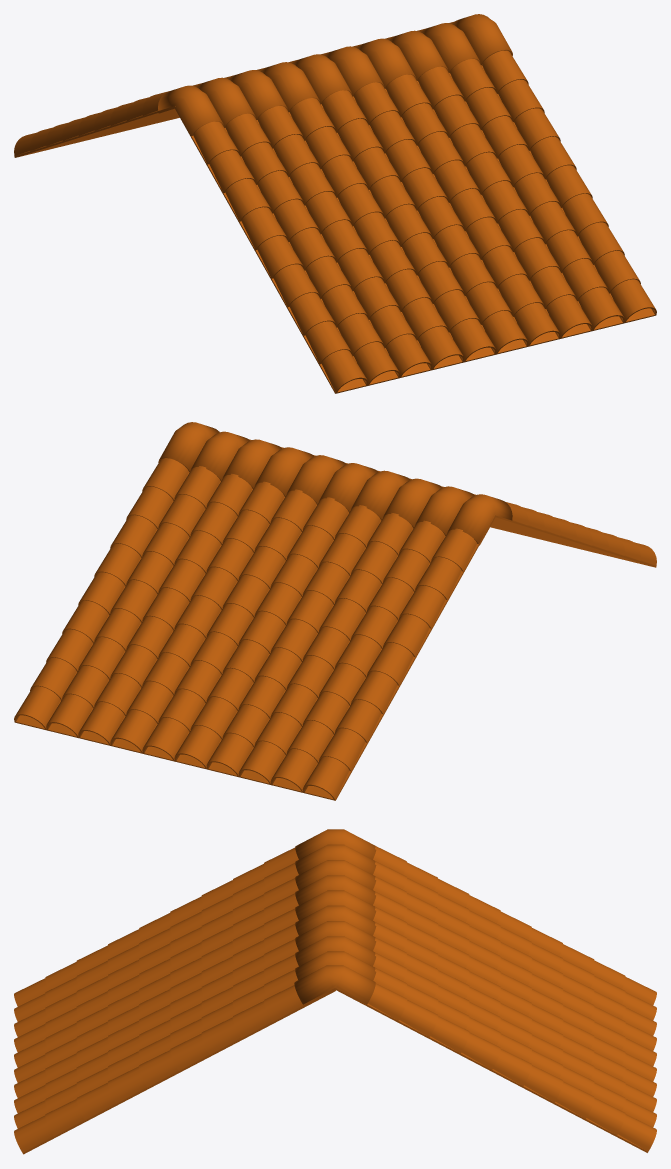
3 views of the same model, one above another, from view 1: azimuth 30°, elevation 25°; view 2: azimuth 150°, elevation 25°; view 3: azimuth 270°, elevation 25° (orthographic). The views are drawn at different scales.
Parts seen in each view (by area): view 1: Group_190, Group_181, Group_186, Group_185, Group_188, Group_184, Group_187, Group_182, Group_183, Group_189, Group_125, Group_089 (+88 smaller); view 2: Group_190, Group_181, Group_209, Group_187, Group_186, Group_182, Group_184, Group_188, Group_185, Group_189, Group_183, Group_243 (+88 smaller); view 3: Group_181, Group_188, Group_184, Group_190, Group_186, Group_189, Group_187, Group_185, Group_183, Group_182, Group_023, Group_031 (+178 smaller).
Part boxes in pixels (x1,y1,x2,y2): Group_190: (158, 85, 223, 136); Group_181: (452, 14, 512, 65); Group_186: (292, 54, 351, 104); Group_185: (324, 46, 384, 96); Group_188: (228, 70, 287, 119); Group_184: (356, 38, 416, 88); Group_187: (260, 62, 319, 111); Group_182: (420, 23, 480, 72); Group_183: (388, 30, 448, 80); Group_189: (196, 77, 255, 127); Group_125: (303, 336, 368, 393); Group_089: (433, 304, 496, 362); Group_190: (447, 494, 512, 545); Group_181: (158, 422, 219, 472); Group_209: (302, 743, 367, 800); Group_187: (350, 470, 410, 520); Group_186: (318, 463, 378, 512); Group_182: (190, 431, 250, 480); Group_184: (254, 447, 314, 496); Group_188: (382, 478, 442, 528); Group_185: (286, 455, 346, 504); Group_189: (414, 486, 474, 535); Group_183: (222, 439, 281, 488); Group_243: (174, 725, 221, 769); Group_181: (294, 965, 375, 1005); Group_188: (295, 860, 376, 889); Group_184: (295, 921, 376, 950); Group_190: (295, 829, 376, 859); Group_186: (295, 890, 376, 920); Group_189: (295, 844, 376, 874); Group_187: (295, 875, 375, 905); Group_185: (295, 905, 376, 935); Group_183: (295, 936, 375, 966); Group_182: (295, 951, 376, 980); Group_023: (45, 1099, 116, 1137); Group_031: (107, 1066, 179, 1104).
Bounding box in the file's own units: 52.5 × 28.85 × 93.56.
